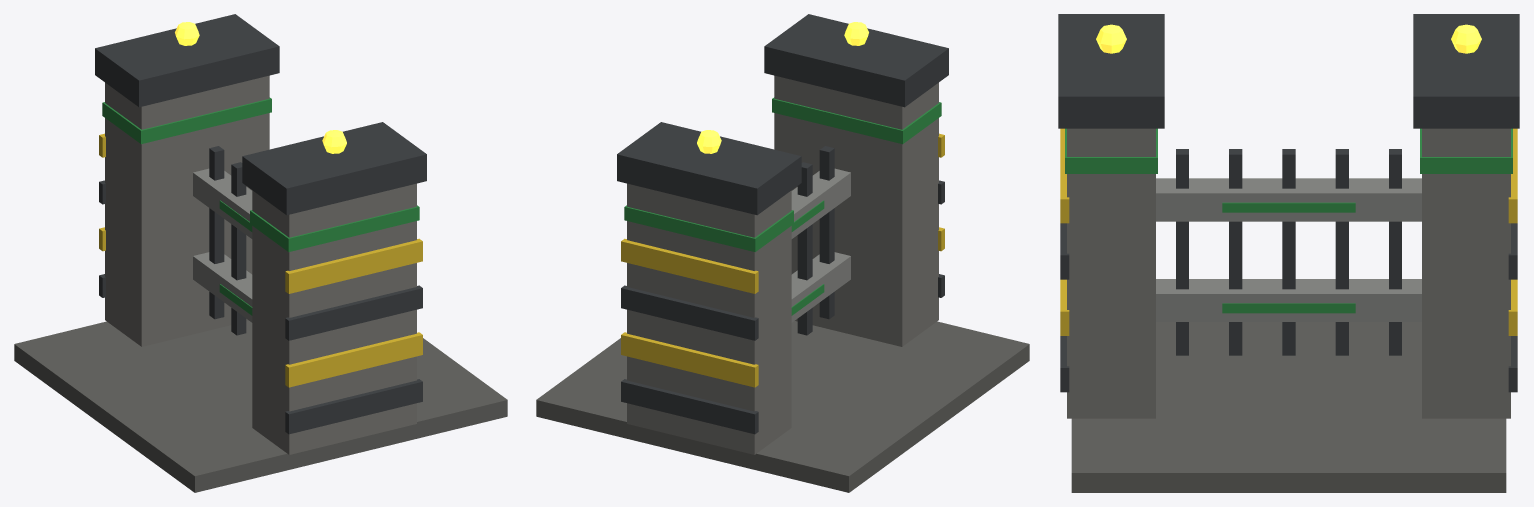
File: gate_lod1.glb
The picture shows the model from 3 angles, left to right: view 1: azimuth 30°, elevation 25°; view 2: azimuth 150°, elevation 25°; view 3: azimuth 270°, elevation 25°; orthographic projection. The views are drawn at different scales.
Parts seen in each view (by area): view 1: Gate_LOD1_Walls, Gate_LOD1_Foundation, Gate_LOD1_Details, Gate_LOD1_Frame; view 2: Gate_LOD1_Walls, Gate_LOD1_Foundation, Gate_LOD1_Details, Gate_LOD1_Frame; view 3: Gate_LOD1_Walls, Gate_LOD1_Foundation, Gate_LOD1_Frame, Gate_LOD1_Details.
Boxes of the visible parts, left/top/right/bottom form: Gate_LOD1_Walls: left=105, top=75, right=416, bottom=454; Gate_LOD1_Foundation: left=14, top=321, right=507, bottom=492; Gate_LOD1_Details: left=99, top=22, right=422, bottom=434; Gate_LOD1_Frame: left=95, top=14, right=426, bottom=215; Gate_LOD1_Walls: left=627, top=75, right=938, bottom=454; Gate_LOD1_Foundation: left=536, top=321, right=1029, bottom=492; Gate_LOD1_Details: left=621, top=22, right=944, bottom=434; Gate_LOD1_Frame: left=617, top=14, right=948, bottom=215; Gate_LOD1_Walls: left=1067, top=128, right=1510, bottom=418; Gate_LOD1_Foundation: left=1071, top=322, right=1506, bottom=492; Gate_LOD1_Frame: left=1058, top=14, right=1519, bottom=128; Gate_LOD1_Details: left=1060, top=24, right=1517, bottom=392.
Size of the model in its own units: 0.98 by 0.935 by 1.04.
